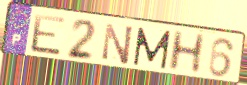2: (67, 18, 99, 62)
6: (207, 36, 236, 79)
E: (30, 12, 68, 58)
H: (165, 29, 207, 74)
M: (132, 25, 173, 71)
N: (101, 22, 136, 67)
